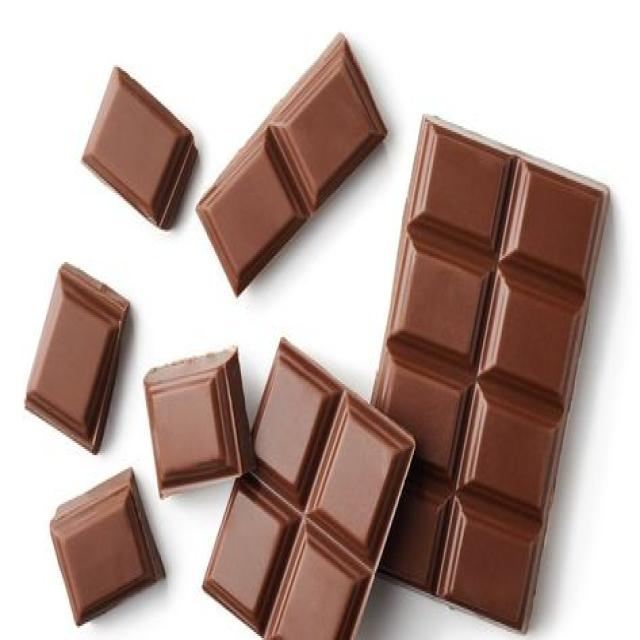Chocolate: (363, 119, 610, 640), (202, 339, 417, 640), (198, 31, 388, 294), (22, 260, 129, 468), (77, 66, 196, 234), (49, 469, 165, 630), (142, 347, 258, 499)
